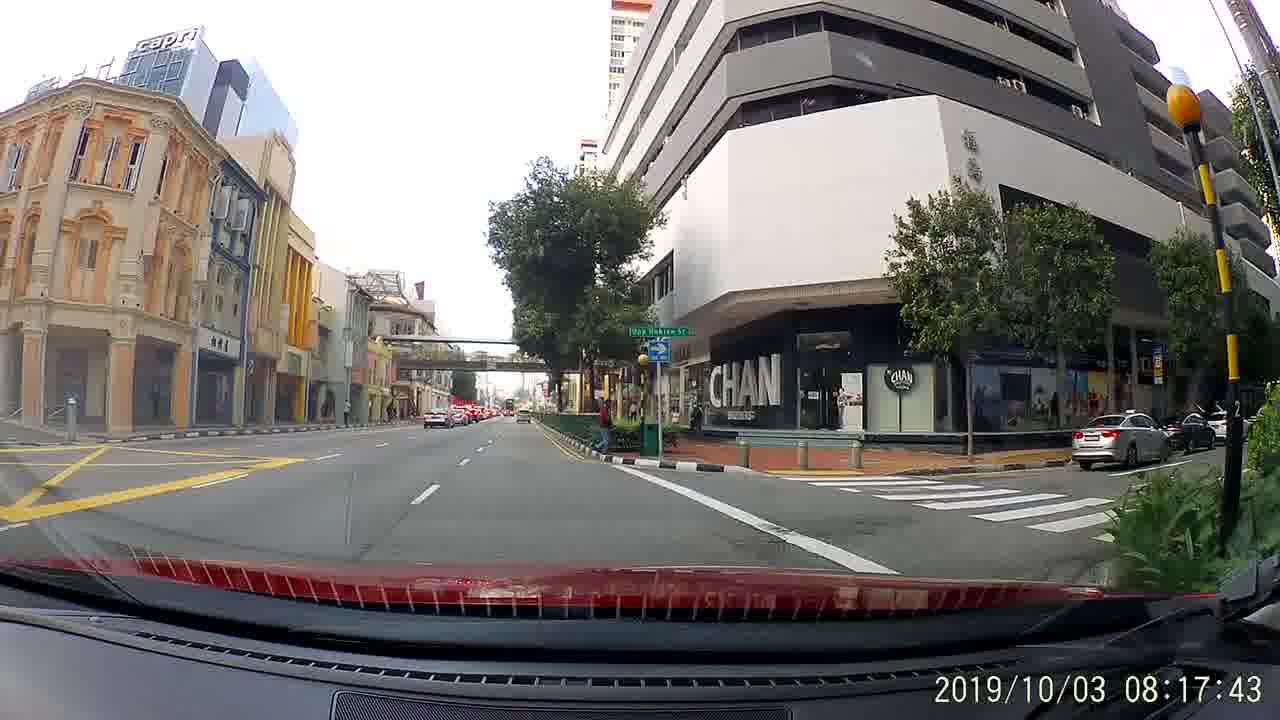car: (1069, 405, 1169, 464), (1156, 411, 1213, 453), (1204, 408, 1257, 445), (420, 401, 452, 431), (511, 405, 536, 427), (445, 406, 470, 423)
